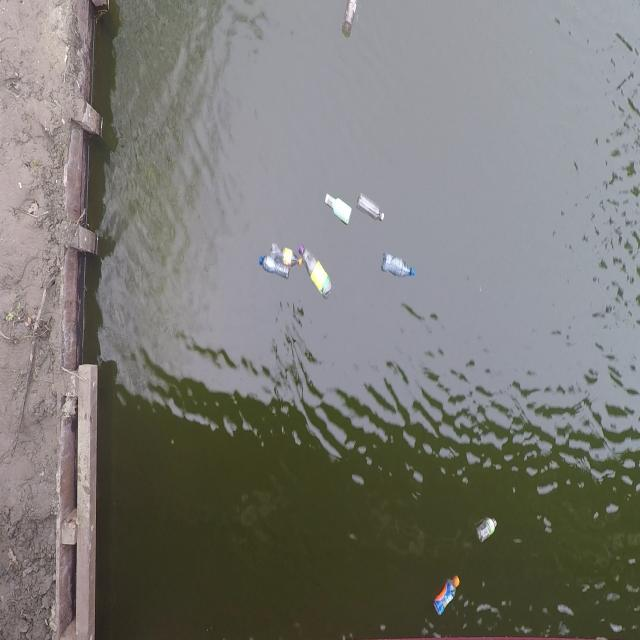Bouteille plastique: (296, 238, 338, 307), (431, 570, 464, 627), (265, 238, 306, 275), (356, 188, 388, 227), (382, 251, 417, 286), (323, 190, 354, 229), (255, 252, 291, 285), (339, 0, 364, 39), (476, 510, 500, 546)
